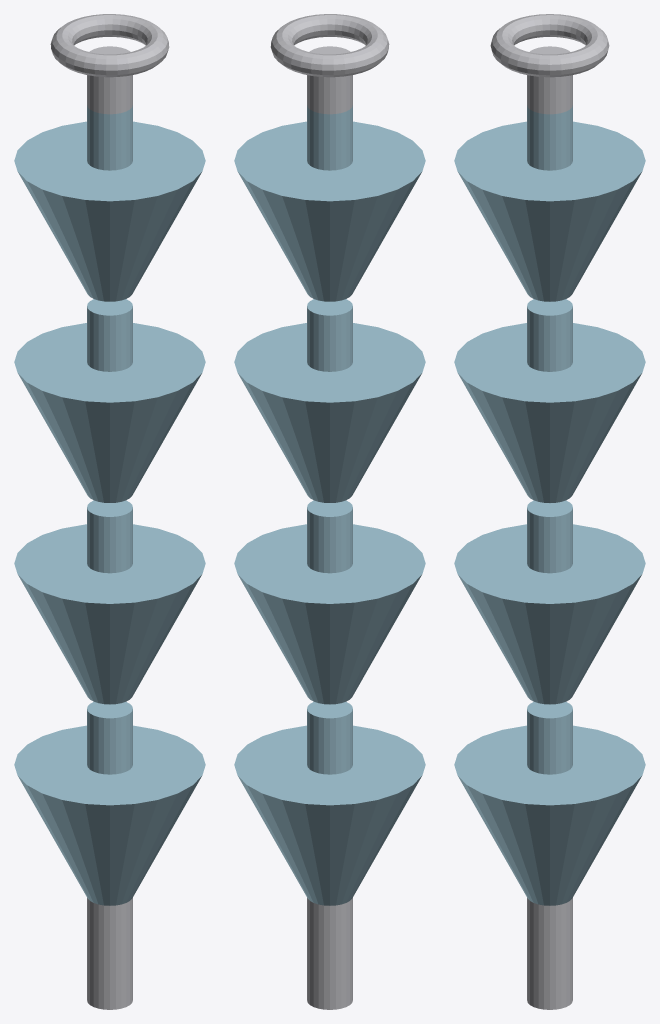
Rendered from Cadena_556mm.fbx.
3 views of the same model, side by side, from view 1: azimuth 30°, elevation 25°; view 2: azimuth 150°, elevation 25°; view 3: azimuth 270°, elevation 25° (orthographic).
Parts seen in each view (by area): view 1: Cadena_556mm; view 2: Cadena_556mm; view 3: Cadena_556mm.
Boxes of the visible parts, x1,y1,x2,y2 form: Cadena_556mm: [14, 14, 205, 1009]; Cadena_556mm: [234, 14, 425, 1009]; Cadena_556mm: [454, 14, 645, 1009].
Size of the model in its own units: 10 by 55.6 by 10.
